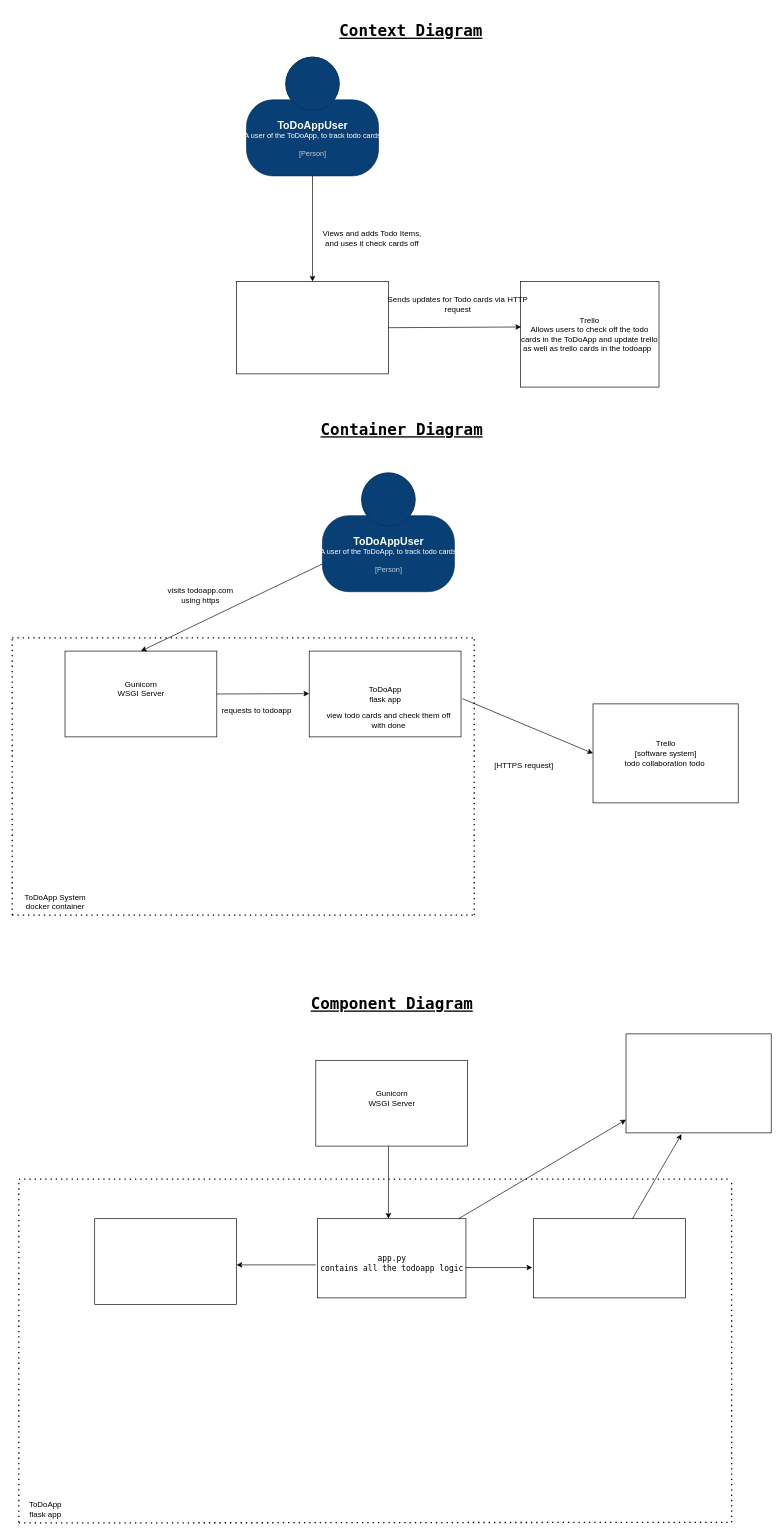
This 783x1536 diagram has some shape labels left out. Here are the shapes that lost their labels. From the top down, the centre of each, then its label:
At point 312,327: "ToDoApp System (allows users to add and view to todo cards, check them off".
At point 698,1083: "Trello [software system] to-do collaboration tool".
At point 165,1261: "html jinja templates the user interface containing html".
At point 609,1258: "Trello Items contains all the todoitems".
